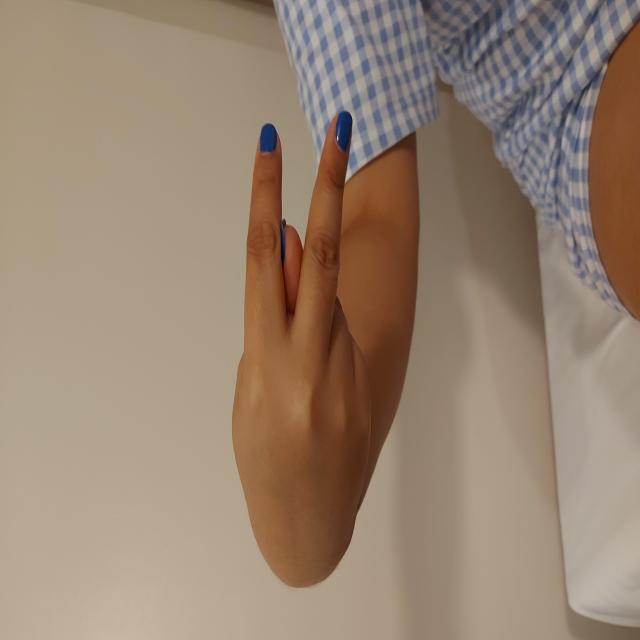K: (51, 230, 531, 370)
